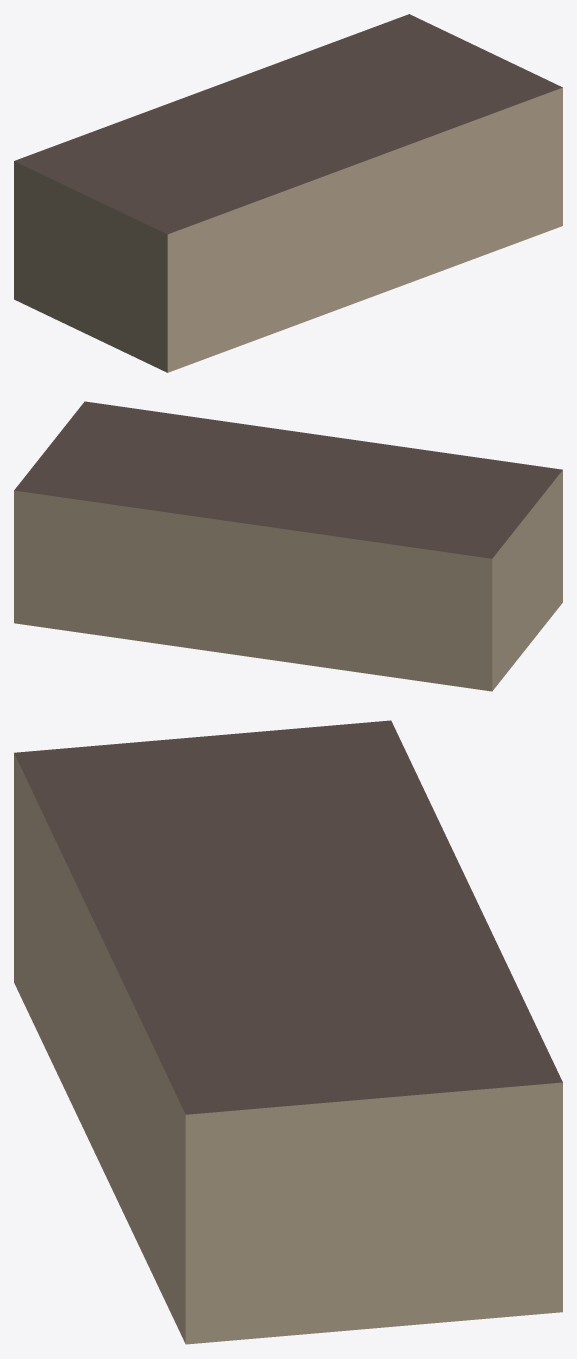
The picture shows the model from 3 angles, top to bottom: view 1: azimuth 30°, elevation 25°; view 2: azimuth 150°, elevation 25°; view 3: azimuth 270°, elevation 25°; orthographic projection. The views are drawn at different scales.
Parts seen in each view (by area): view 1: HP-w859424240; view 2: HP-w859424240; view 3: HP-w859424240.
Part boxes in pixels (<box>): HP-w859424240: <box>14,14,562,372</box>; HP-w859424240: <box>14,401,562,691</box>; HP-w859424240: <box>14,720,562,1344</box>.
Size of the model in its own units: 33.13 by 9 by 19.49.
